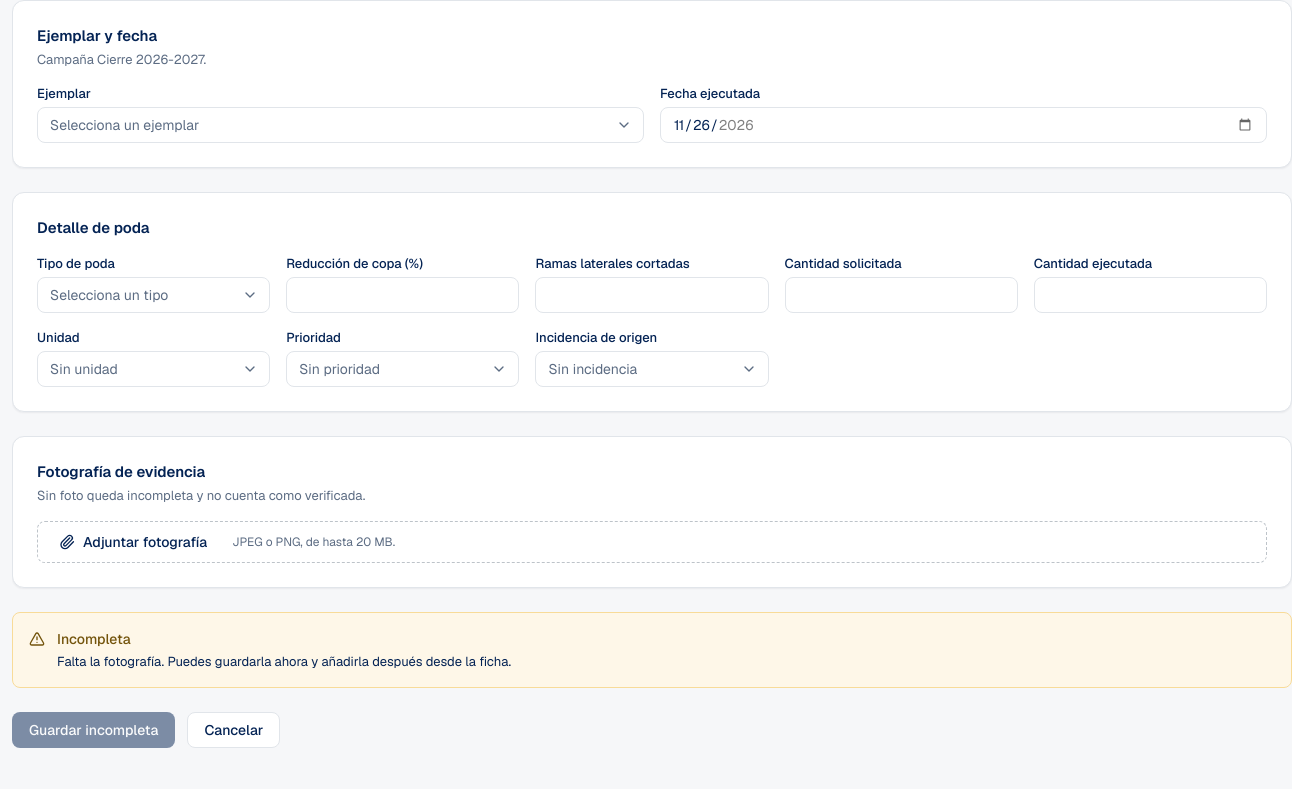
Scenario: RegistrarPodaPage › muestra el error del servidor
This screenshot has width=1292, height=789.
Step 1. Select "EJ-0003 · Molle" in the dropdown labelled "Ejemplar" → (340,125), box x1=37 y1=107 x2=644 y2=143
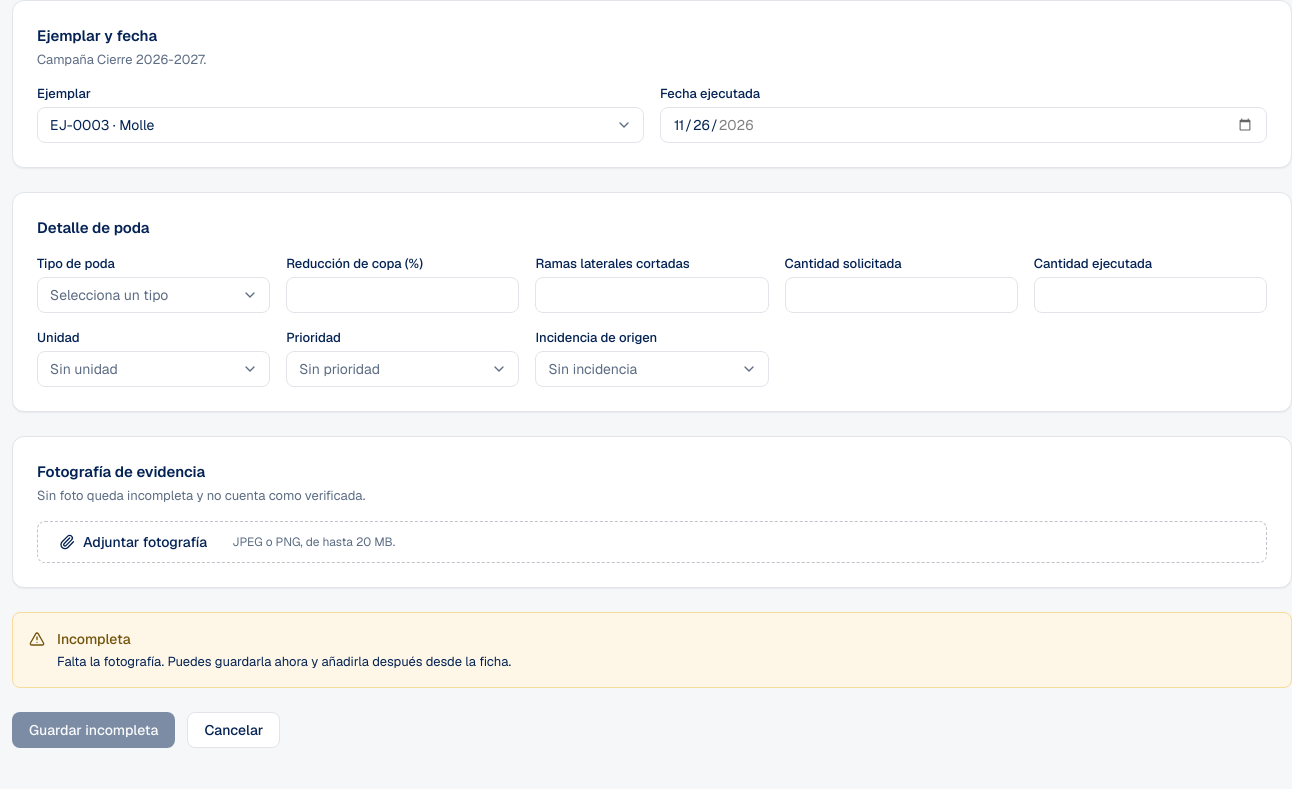
Step 2. Select "Poda de limpieza" in the dropdown labelled "Tipo de poda" → (154,295), box x1=37 y1=277 x2=270 y2=313
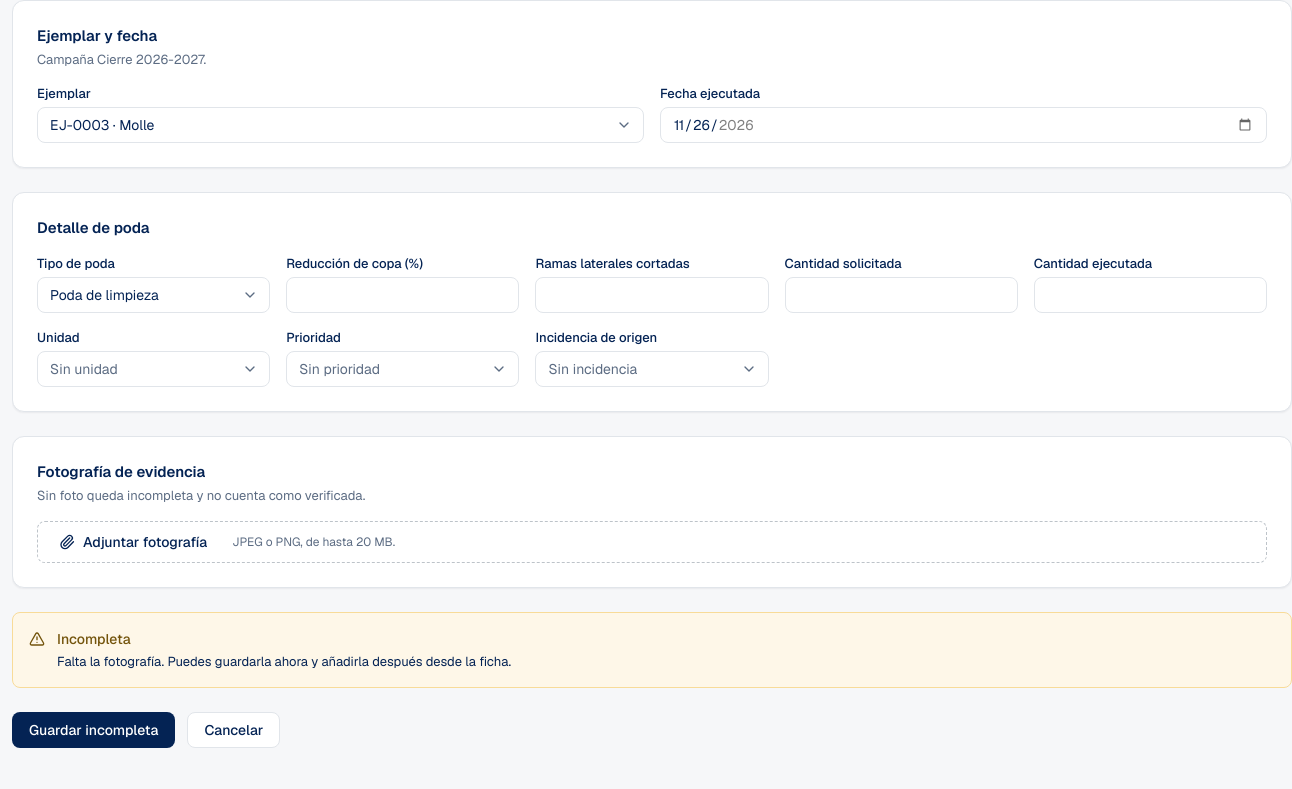
Step 3. Type "2026-12-21" into the date field labelled "Fecha ejecutada" → (964,125), box x1=660 y1=107 x2=1267 y2=143
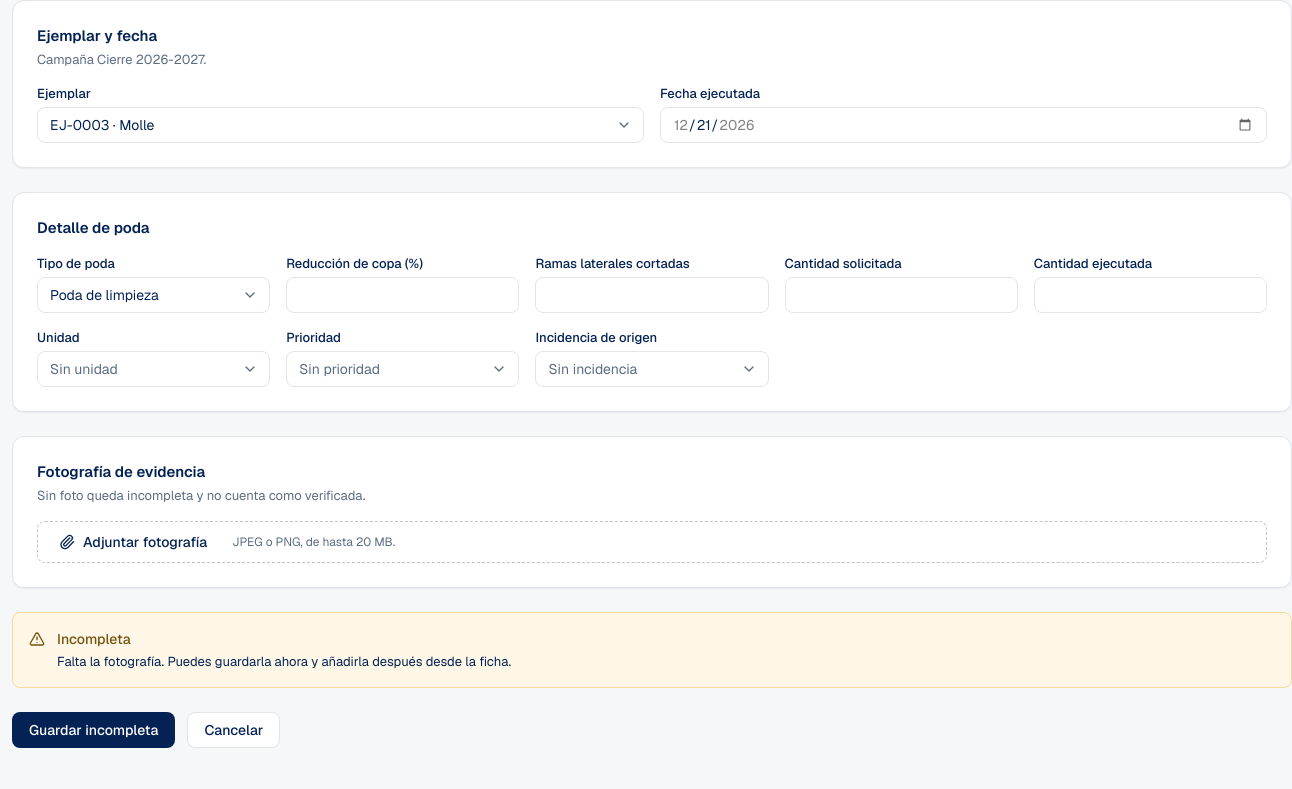
Step 4. Click the button "Guardar incompleta" → (94,730), box x1=12 y1=712 x2=175 y2=748
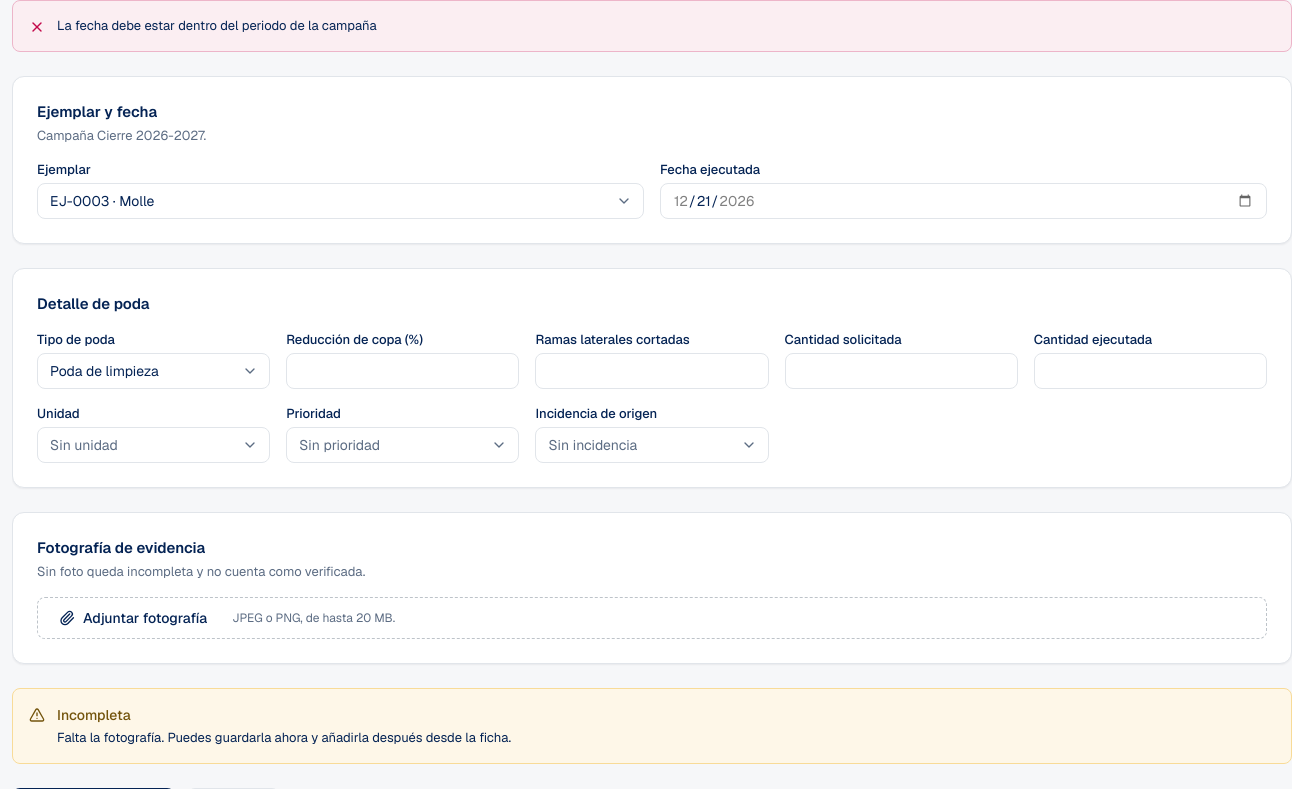
Check: the text "La fecha debe estar dentro del periodo de la campaña" is shown, box x1=57 y1=17 x2=377 y2=34
